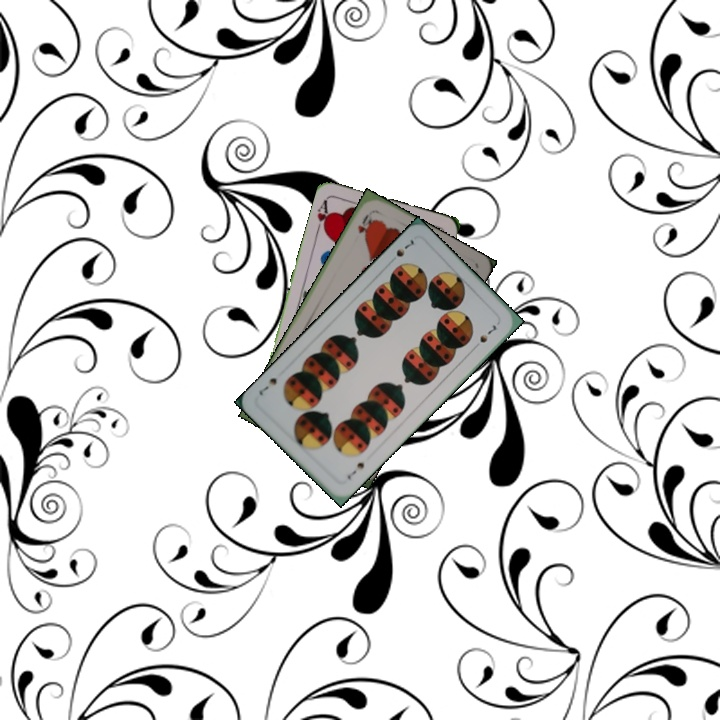HA: (312, 196, 333, 235)
HO: (353, 210, 375, 239)
S7: (384, 234, 416, 267), (343, 458, 367, 482)
